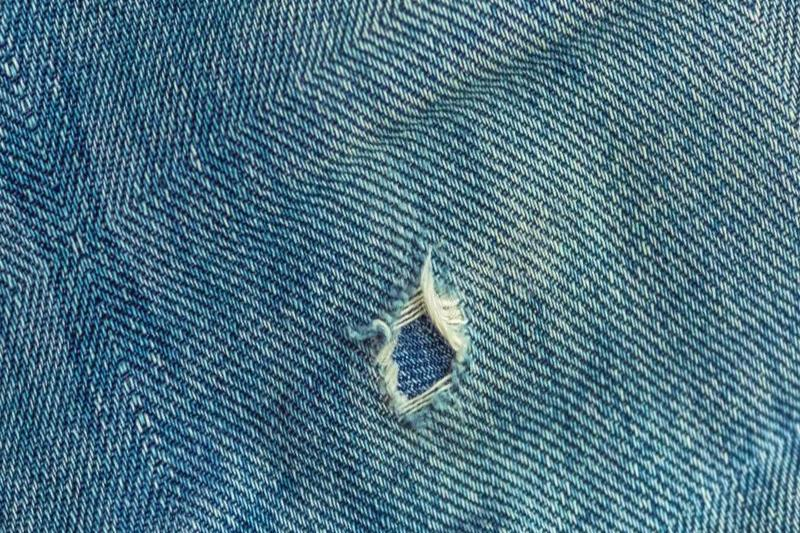hole: (357, 285, 483, 414)
